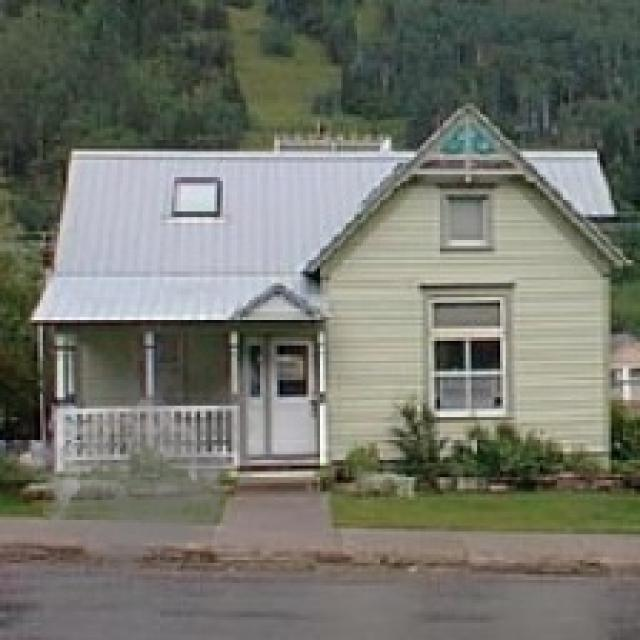smoke: (40, 323, 269, 591)
